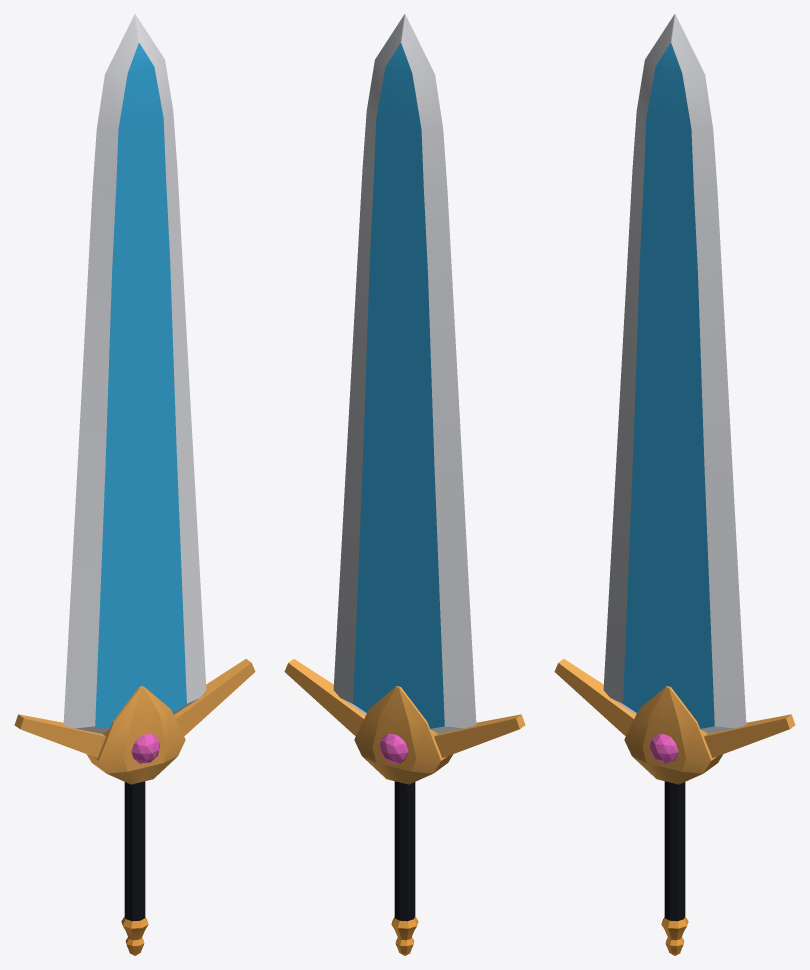
The model's file is two_handed_sword_1.fbx.
3 views of the same model, side by side, from view 1: azimuth 30°, elevation 25°; view 2: azimuth 150°, elevation 25°; view 3: azimuth 330°, elevation 25° (orthographic).
Parts seen in each view (by area): view 1: two_handed_sword_1; view 2: two_handed_sword_1; view 3: two_handed_sword_1.
Boxes of the visible parts, x1=… form: two_handed_sword_1: x1=14, y1=14, x2=255, y2=955; two_handed_sword_1: x1=284, y1=14, x2=525, y2=955; two_handed_sword_1: x1=554, y1=14, x2=795, y2=955.
Bounding box in the file's own units: 0.4766 × 1.82 × 0.1194.
Materials: 1 (1 with a texture image).
